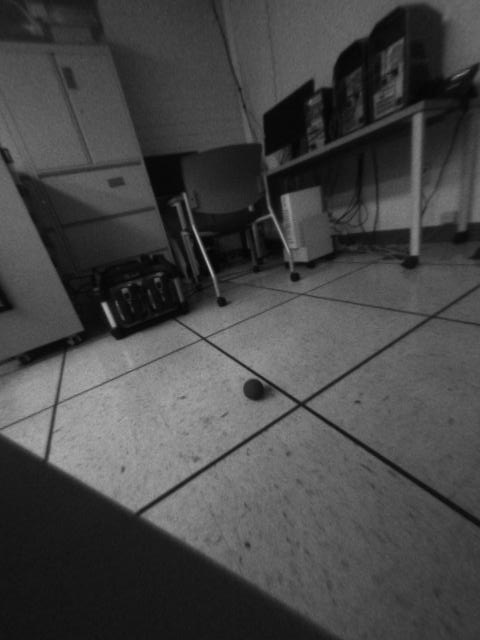dogtoy: (238, 372, 272, 406)
